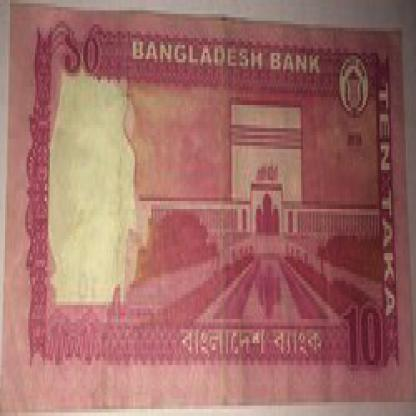Ten Taka: (338, 291, 386, 371), (55, 31, 116, 87)
